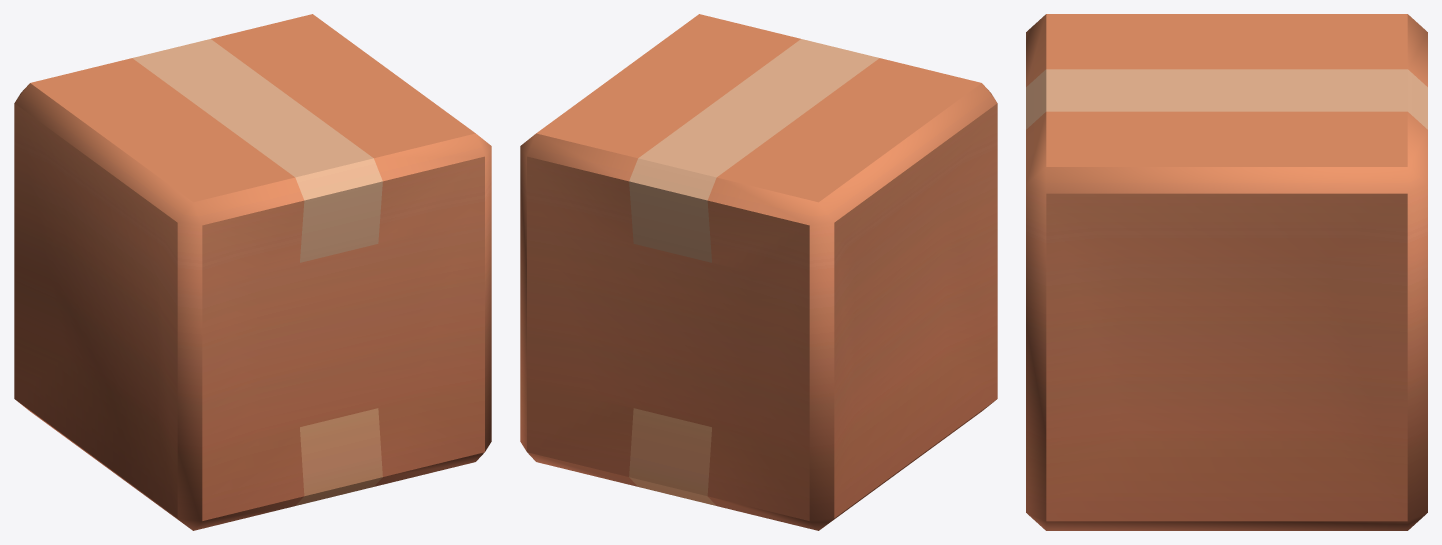
The model's file is wooden_box.glb.
The picture shows the model from 3 angles, left to right: view 1: azimuth 30°, elevation 25°; view 2: azimuth 150°, elevation 25°; view 3: azimuth 270°, elevation 25°; orthographic projection. The views are drawn at different scales.
Parts seen in each view (by area): view 1: box; view 2: box; view 3: box.
Boxes of the visible parts, box(x1,y1,x2,y2) form: box: box(14, 14, 491, 530); box: box(520, 14, 997, 530); box: box(1026, 14, 1427, 530).
Bounding box in the file's own units: 0.25 × 0.25 × 0.25.
Materials: 1 (1 with a texture image).
